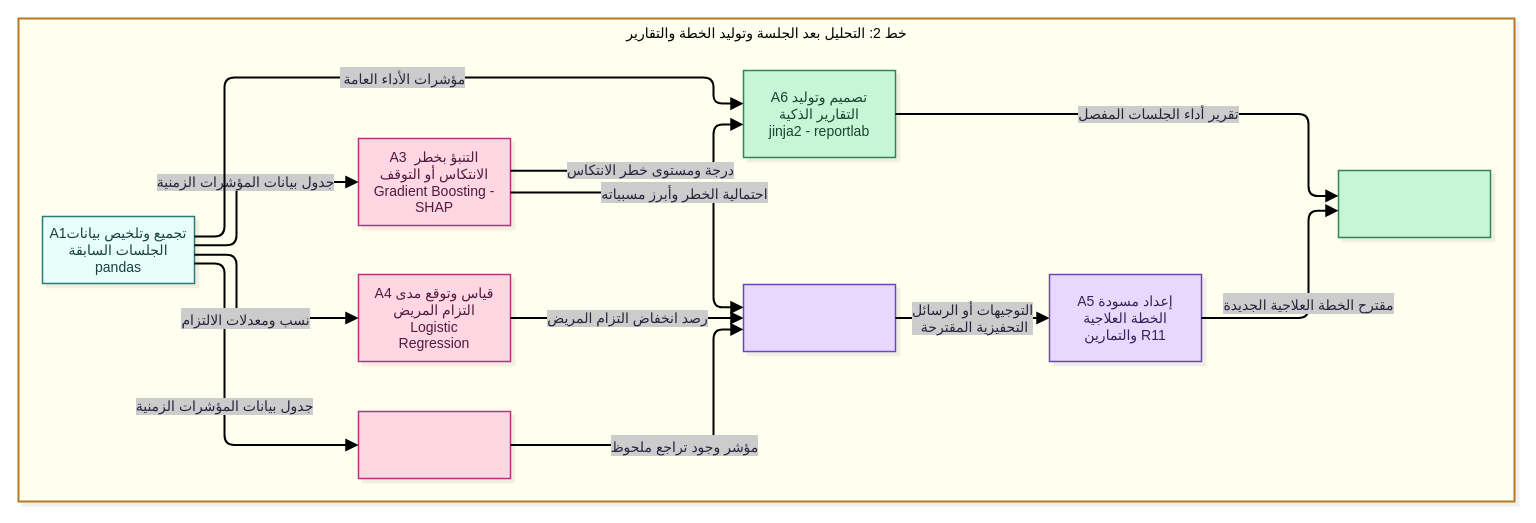
This 1536x523 diagram has some shape labels left out. The shapes that lost their labels are listed below. From the top down, each one's centre as x and y in pixels, then its label:
pixel 1416 205: مراجعة الطبيب المعالج واعتماد الخطة
pixel 821 319: RL4 وRL5 تطبيق قواعد تقييم الخطة والتحفيز experta
pixel 436 446: A2 رصد التراجع الملحوظ في الأداء Z-score - SciPy
